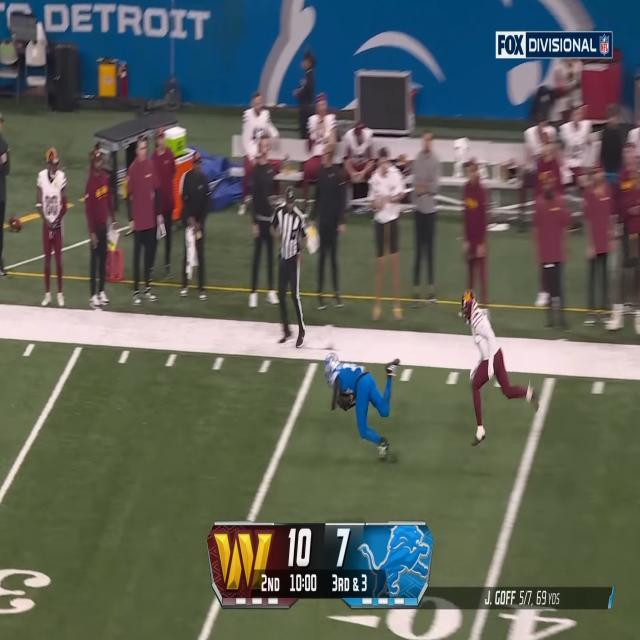Ball: (339, 393, 351, 409)
